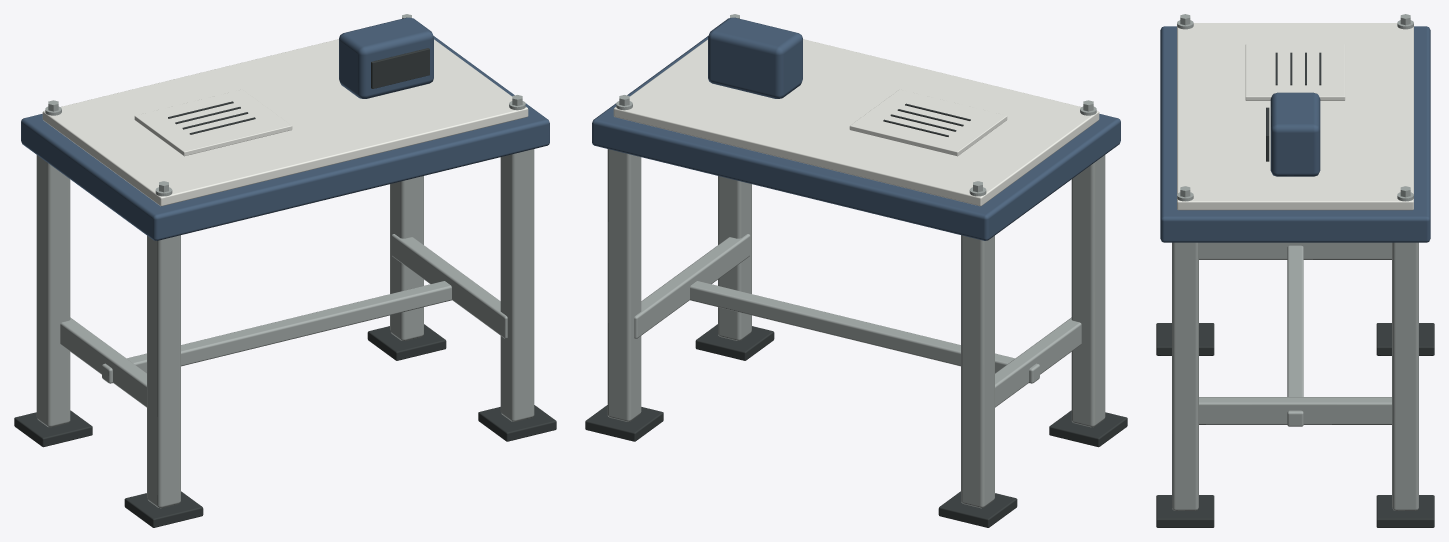
File: spacecraft-parachute-packing-hall-spacecraft-parachute-028913a6__32121.glb
3 views of the same model, side by side, from view 1: azimuth 30°, elevation 25°; view 2: azimuth 150°, elevation 25°; view 3: azimuth 270°, elevation 25° (orthographic).
Visible parts, largest first — view 1: spacecraft-parachute-packing-hall-packing-record-desk; view 2: spacecraft-parachute-packing-hall-packing-record-desk; view 3: spacecraft-parachute-packing-hall-packing-record-desk.
Part boxes in pixels (box(x1,y1,x2,y2)): spacecraft-parachute-packing-hall-packing-record-desk: box(14, 14, 556, 527); spacecraft-parachute-packing-hall-packing-record-desk: box(585, 14, 1127, 527); spacecraft-parachute-packing-hall-packing-record-desk: box(1156, 14, 1434, 527).
Size of the model in its own units: 1.12 by 0.985 by 0.67.
